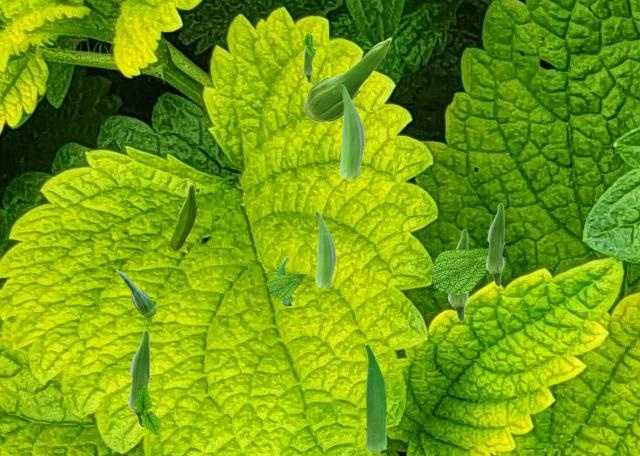okra: (304, 37, 391, 121), (339, 84, 364, 177), (127, 329, 150, 427), (365, 343, 385, 450), (447, 228, 468, 321), (116, 269, 155, 317), (169, 183, 195, 249), (485, 202, 504, 286), (315, 211, 335, 286), (275, 256, 291, 304), (302, 34, 312, 82)
